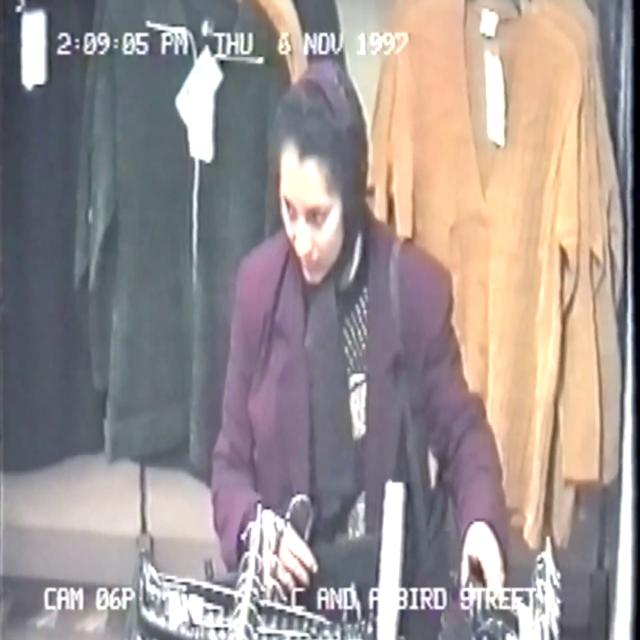Product: (288, 524, 386, 612)
shoplifting: (140, 0, 533, 640)
